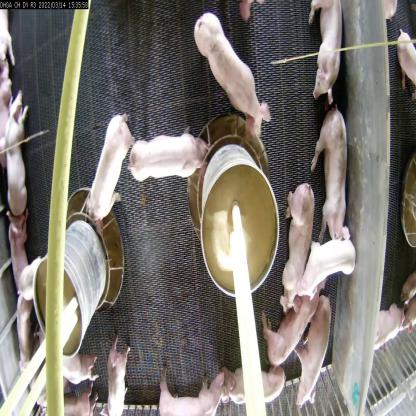Pig: (193, 6, 266, 144), (86, 108, 131, 230), (276, 188, 320, 312), (301, 226, 363, 309), (216, 350, 291, 415), (127, 128, 208, 188), (312, 116, 351, 233), (0, 101, 38, 221), (297, 301, 341, 404), (306, 0, 347, 97), (156, 365, 225, 415), (270, 290, 311, 370), (101, 334, 137, 415), (48, 340, 94, 398), (13, 293, 39, 376), (38, 388, 98, 415)
